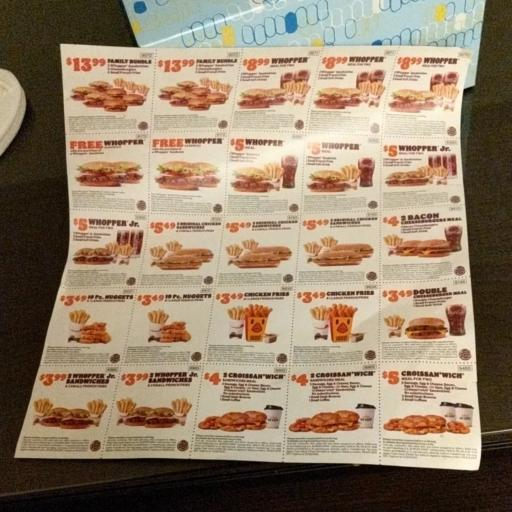paper: (14, 18, 506, 512)
